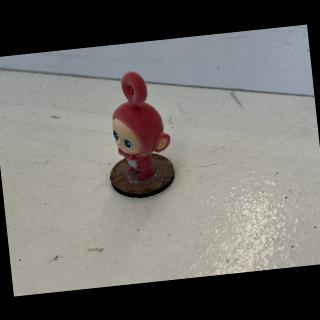teletubby: (112, 71, 170, 179)
